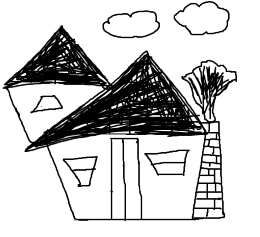closed_window: (141, 142, 197, 182), (57, 147, 106, 190)
clouds: (172, 0, 234, 45), (96, 8, 167, 41)
door: (101, 126, 150, 227)
open_window: (24, 91, 68, 114)
shaded_roof: (15, 48, 206, 143), (1, 11, 117, 92)
smoking_chimney: (178, 54, 244, 144)
wall: (46, 124, 210, 224)
